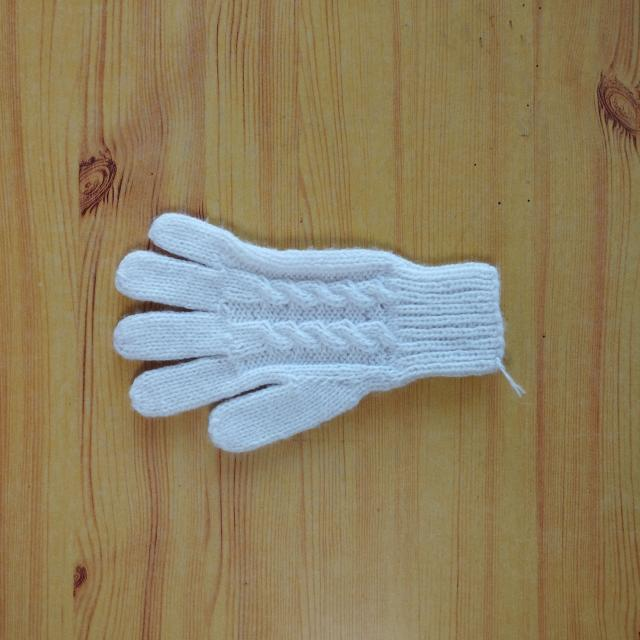Guante: (112, 210, 527, 454)
